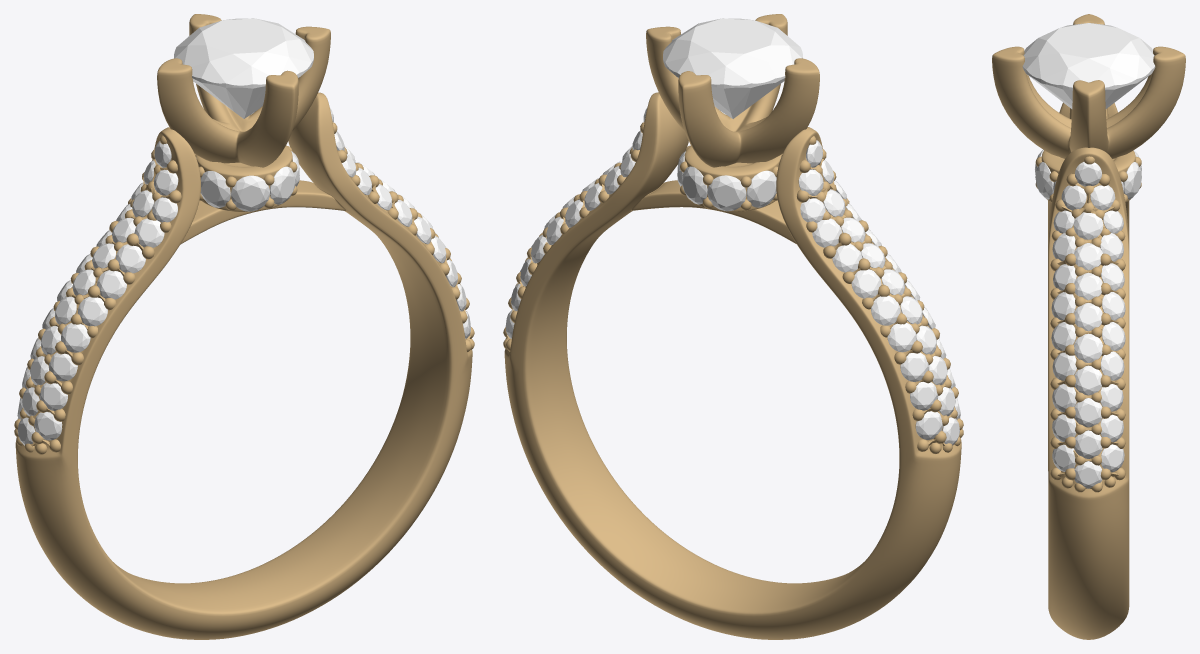
File: baseRing7.glb
3 views of the same model, side by side, from view 1: azimuth 30°, elevation 25°; view 2: azimuth 150°, elevation 25°; view 3: azimuth 270°, elevation 25° (orthographic). The views are drawn at different scales.
Parts seen in each view (by area): view 1: Ring, Diamond-Placeholder-big, Diamond-Placeholder-ring001, Diamond-Placeholder-ring008, Diamond-Placeholder-ring002, Diamond-Placeholder-pave018, Diamond-Placeholder-pave015, Diamond-Placeholder-pave021, Diamond-Placeholder-pave012, Diamond-Placeholder-pave009; view 2: Ring, Diamond-Placeholder-big, Diamond-Placeholder-ring006, Diamond-Placeholder-ring007, Diamond-Placeholder-ring005, Diamond-Placeholder-pave016, Diamond-Placeholder-pave013, Diamond-Placeholder-pave019, Diamond-Placeholder-pave007, Diamond-Placeholder-pave022; view 3: Ring, Diamond-Placeholder-big, Diamond-Placeholder-pave047, Diamond-Placeholder-pave050, Diamond-Placeholder-pave053, Diamond-Placeholder-pave035, Diamond-Placeholder-pave044, Diamond-Placeholder-pave056, Diamond-Placeholder-pave041, Diamond-Placeholder-pave038, Diamond-Placeholder-pave059, Diamond-Placeholder-pave046 (+22 smaller).
Part boxes in pixels (bbox=[...]): Ring: bbox=[14, 14, 474, 639]; Diamond-Placeholder-big: bbox=[174, 18, 313, 118]; Diamond-Placeholder-ring001: bbox=[231, 175, 269, 211]; Diamond-Placeholder-ring008: bbox=[200, 171, 230, 207]; Diamond-Placeholder-ring002: bbox=[269, 166, 294, 204]; Diamond-Placeholder-pave018: bbox=[78, 296, 107, 326]; Diamond-Placeholder-pave015: bbox=[97, 270, 126, 299]; Diamond-Placeholder-pave021: bbox=[61, 323, 90, 352]; Diamond-Placeholder-pave012: bbox=[116, 244, 145, 273]; Diamond-Placeholder-pave009: bbox=[134, 218, 164, 247]; Ring: bbox=[503, 14, 963, 639]; Diamond-Placeholder-big: bbox=[663, 18, 802, 118]; Diamond-Placeholder-ring006: bbox=[707, 175, 746, 211]; Diamond-Placeholder-ring007: bbox=[746, 170, 776, 207]; Diamond-Placeholder-ring005: bbox=[682, 166, 707, 204]; Diamond-Placeholder-pave016: bbox=[871, 295, 900, 325]; Diamond-Placeholder-pave013: bbox=[851, 269, 881, 298]; Diamond-Placeholder-pave019: bbox=[887, 322, 916, 352]; Diamond-Placeholder-pave007: bbox=[812, 218, 841, 247]; Diamond-Placeholder-pave022: bbox=[900, 352, 928, 381]; Ring: bbox=[992, 14, 1185, 639]; Diamond-Placeholder-big: bbox=[1022, 23, 1155, 108]; Diamond-Placeholder-pave047: bbox=[1074, 333, 1102, 362]; Diamond-Placeholder-pave050: bbox=[1074, 365, 1102, 395]; Diamond-Placeholder-pave053: bbox=[1074, 398, 1102, 427]; Diamond-Placeholder-pave035: bbox=[1073, 212, 1103, 239]; Diamond-Placeholder-pave044: bbox=[1074, 303, 1102, 331]; Diamond-Placeholder-pave056: bbox=[1074, 430, 1102, 458]; Diamond-Placeholder-pave041: bbox=[1074, 272, 1102, 300]; Diamond-Placeholder-pave038: bbox=[1074, 243, 1102, 270]; Diamond-Placeholder-pave059: bbox=[1074, 461, 1101, 488]; Diamond-Placeholder-pave046: bbox=[1051, 322, 1076, 350].
Size of the model in its own units: 2.4 by 3.06 by 0.9328.
